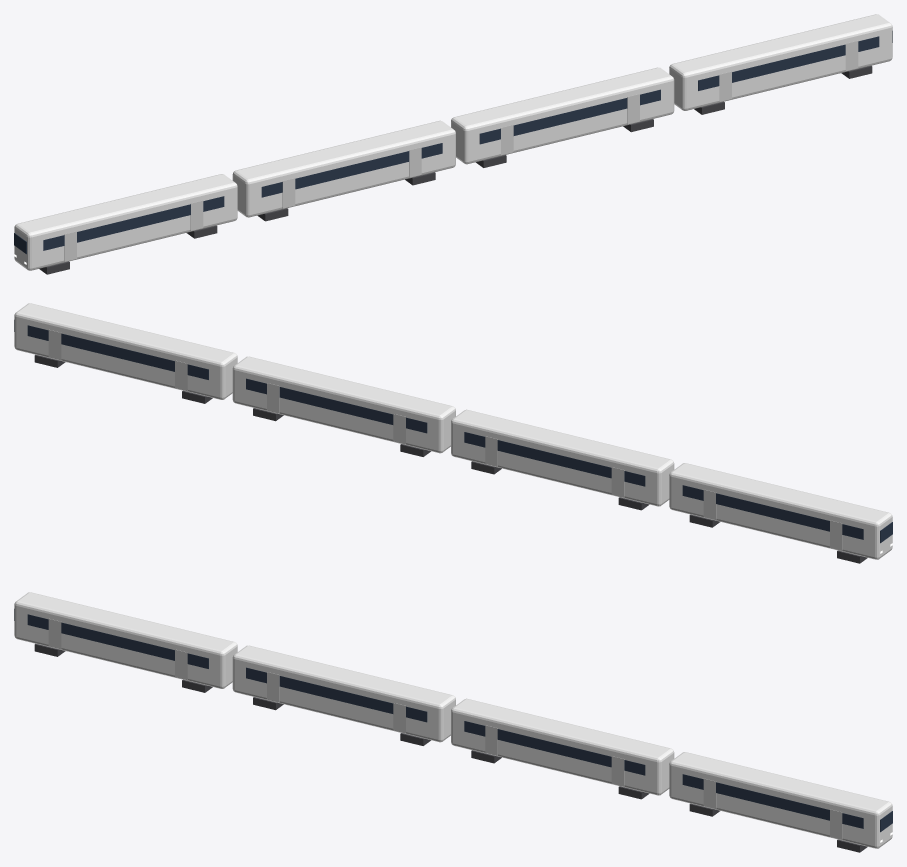
Rendered from train_rail.glb.
3 renders of one model, top to bottom at view 1: azimuth 30°, elevation 25°; view 2: azimuth 150°, elevation 25°; view 3: azimuth 330°, elevation 25°, orthographic.
Visible parts, largest first — view 1: train_rail; view 2: train_rail; view 3: train_rail.
Part boxes in pixels (x1,y1,x2,y2): train_rail: (14,14,892,274); train_rail: (14,303,892,563); train_rail: (14,592,892,852).
Bounding box in the file's own units: 90.52 × 4.6 × 2.86.
